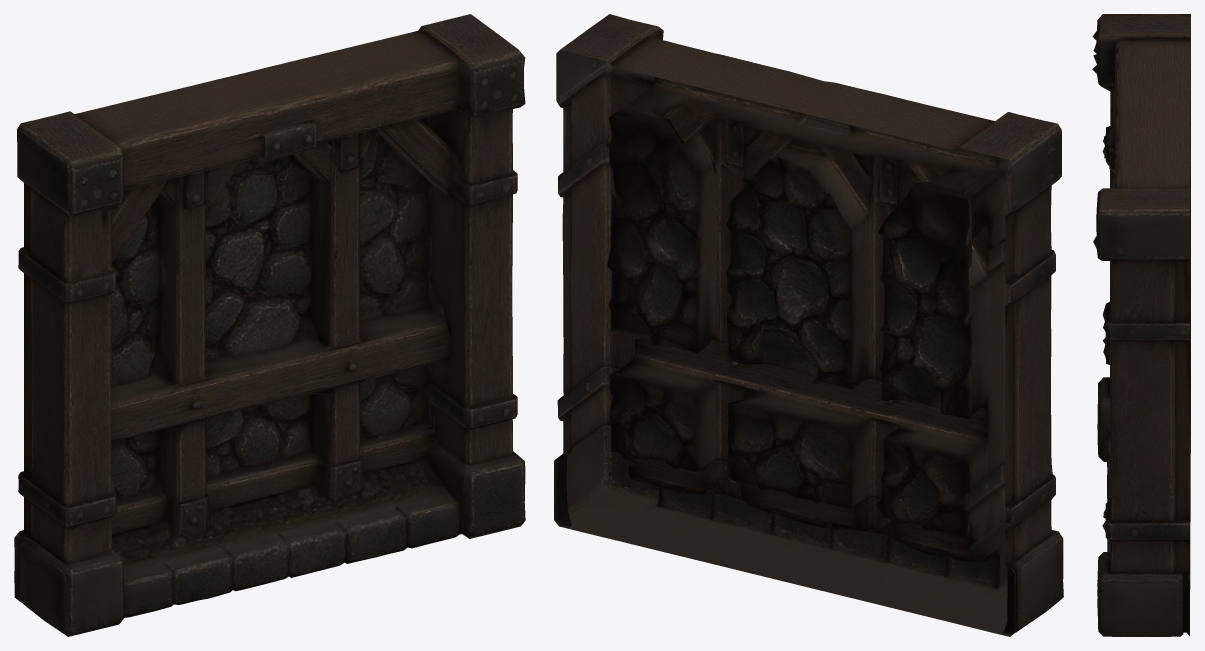
File: Wall_mineshaft.fbx
The picture shows the model from 3 angles, left to right: view 1: azimuth 30°, elevation 25°; view 2: azimuth 150°, elevation 25°; view 3: azimuth 270°, elevation 25°; orthographic projection. The views are drawn at different scales.
Parts seen in each view (by area): view 1: Wall_mineshaft; view 2: Wall_mineshaft; view 3: Wall_mineshaft.
Part boxes in pixels (bbox=[...]): Wall_mineshaft: bbox=[14, 14, 525, 636]; Wall_mineshaft: bbox=[554, 14, 1063, 636]; Wall_mineshaft: bbox=[1092, 14, 1190, 636].
Bounding box in the file's own units: 313 × 305 × 64.1.
Materials: 1 (1 with a texture image).
